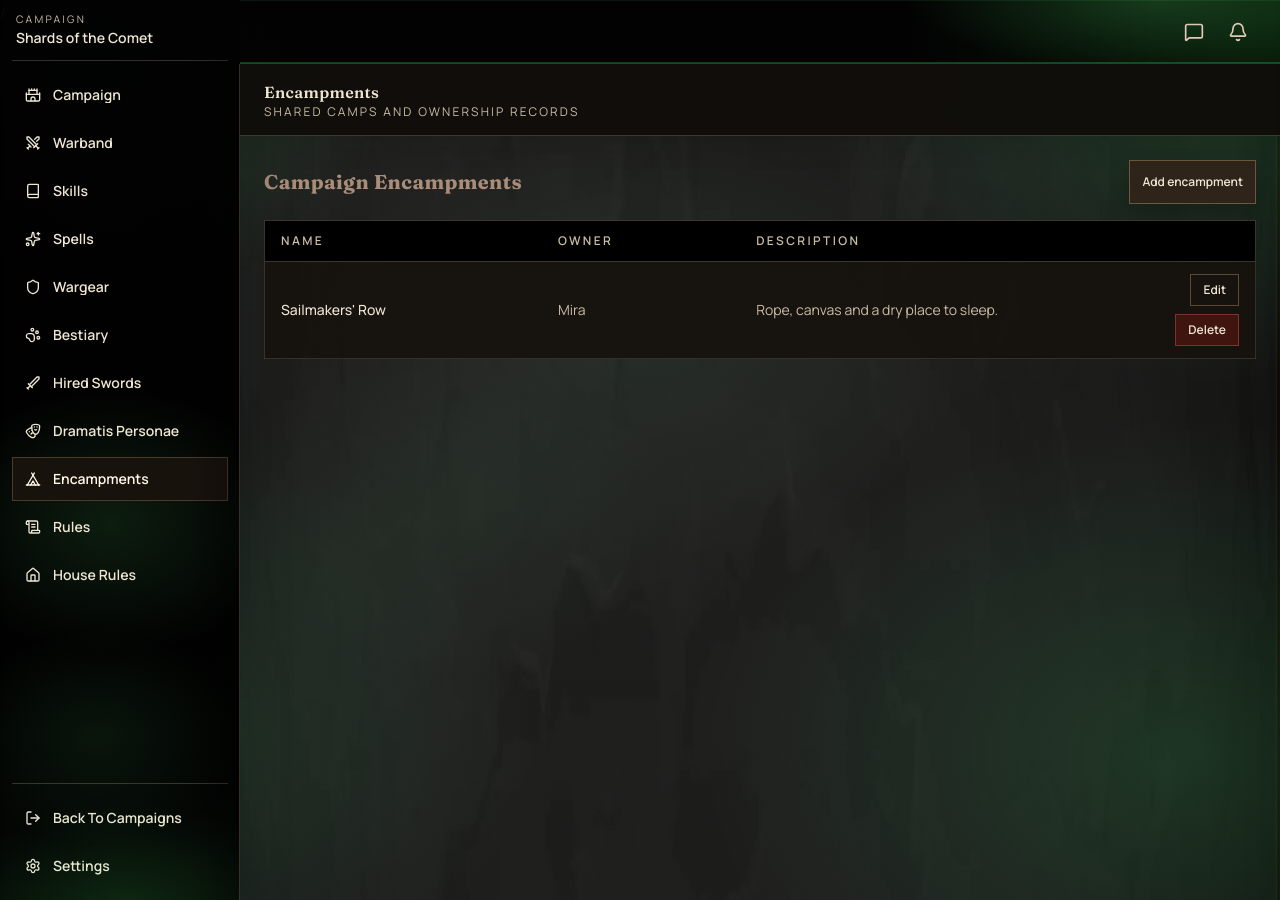
Encampments: adding and editing, as the owner › deletes an encampment after a confirm, and it leaves the list
Expected: the heading "Campaign Encampments" is shown, [264, 168, 522, 196]
Expected: the row "Sailmakers' Row" is shown, [264, 262, 1256, 358]
Click the button "Delete": (1207, 330) [1175, 314, 1239, 346]
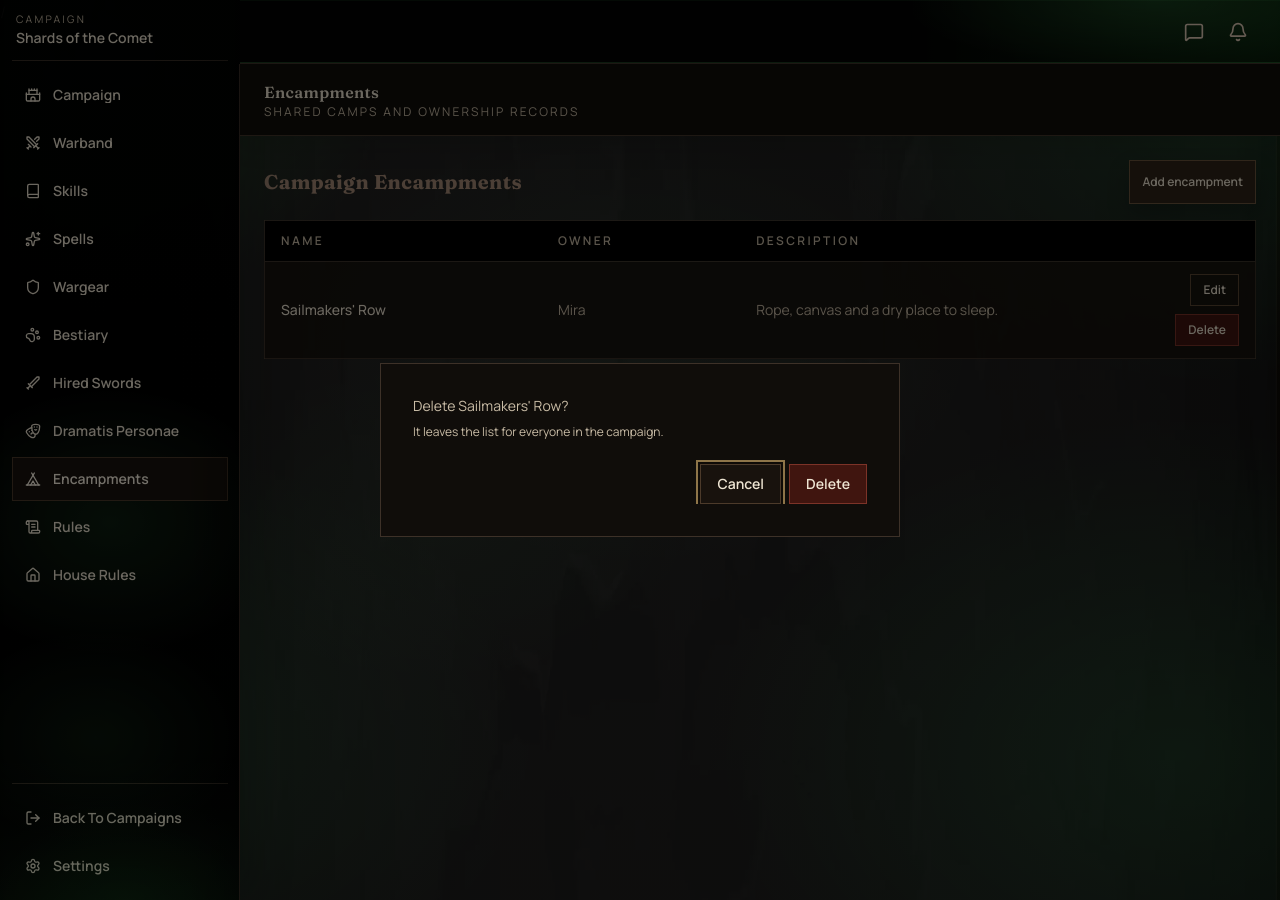
Now the dialog named "Delete encampment" shows "Delete Sailmakers' Row?", box [413, 396, 568, 415]
Click the button "Delete": (828, 484) [789, 464, 867, 504]
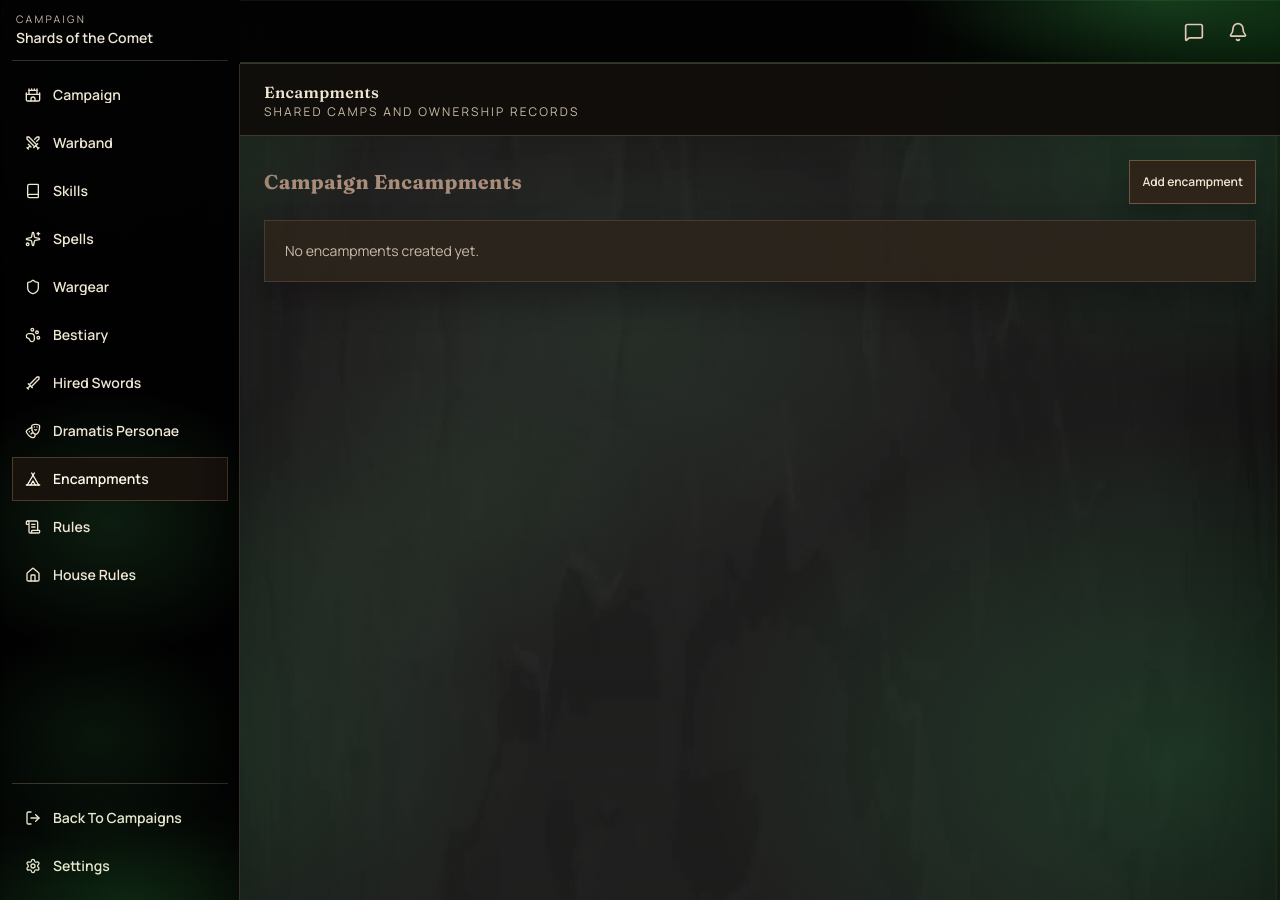
Now the cell "Sailmakers' Row" is gone
